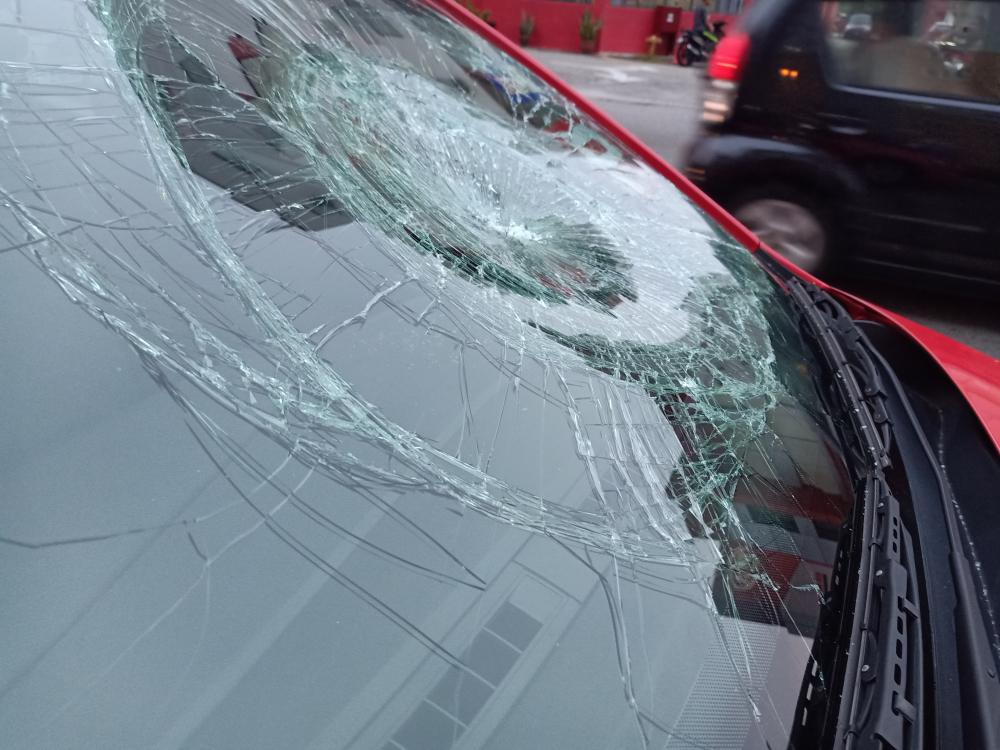glass shatter: (0, 0, 858, 750)
